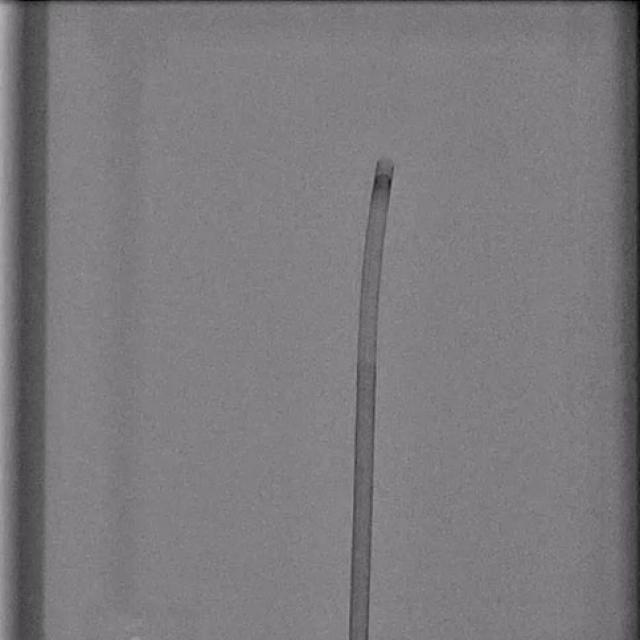bend: (357, 346, 376, 366)
entry: (349, 633, 366, 640)
marker: (372, 172, 394, 192)
tip: (376, 157, 394, 169)
